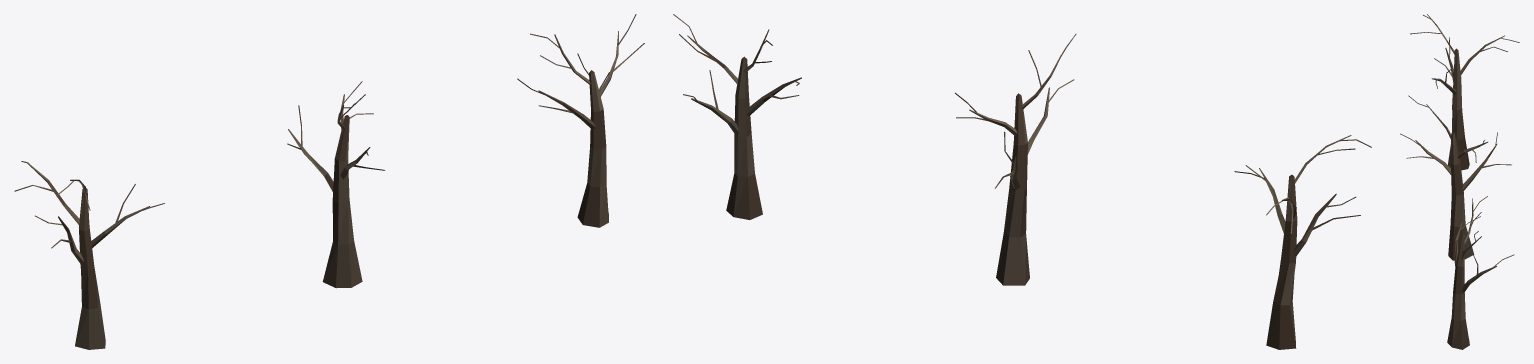
The model's file is ranvora_v2_dead.glb.
The picture shows the model from 3 angles, left to right: view 1: azimuth 30°, elevation 25°; view 2: azimuth 150°, elevation 25°; view 3: azimuth 270°, elevation 25°; orthographic projection. The views are drawn at different scales.
Visible parts, largest first — view 1: dead_B_mesh, dead_C_mesh, dead_A_mesh; view 2: dead_B_mesh, dead_C_mesh, dead_A_mesh; view 3: dead_B_mesh, dead_C_mesh, dead_A_mesh.
Part boxes in pixels (left/top/right/bottom): dead_B_mesh: left=287, top=81, right=385, bottom=288; dead_C_mesh: left=517, top=14, right=644, bottom=227; dead_A_mesh: left=14, top=161, right=164, bottom=349; dead_B_mesh: left=955, top=34, right=1076, bottom=285; dead_C_mesh: left=673, top=14, right=801, bottom=219; dead_A_mesh: left=1234, top=135, right=1371, bottom=349; dead_B_mesh: left=1400, top=95, right=1511, bottom=260; dead_C_mesh: left=1447, top=196, right=1514, bottom=349; dead_A_mesh: left=1410, top=14, right=1519, bottom=170.
Size of the model in its own units: 13.6 by 4.39 by 3.14.
